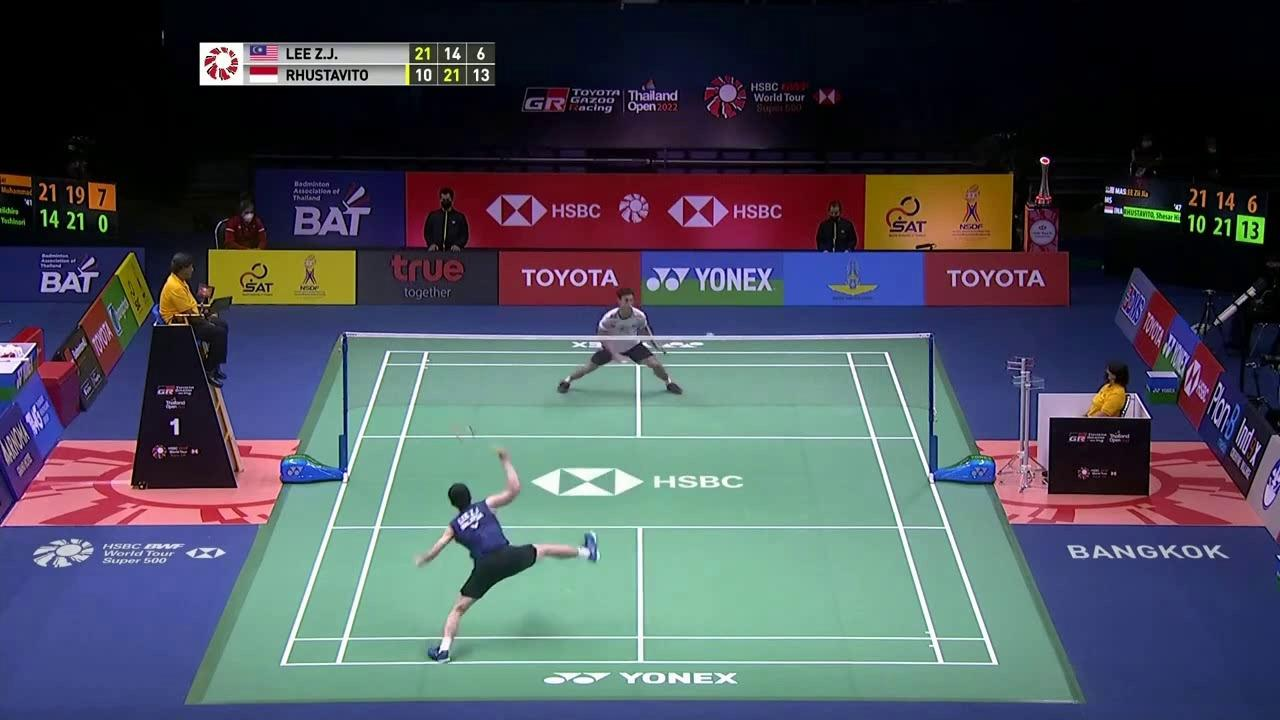racket: (451, 421, 507, 459), (615, 350, 669, 368)
shuttle: (705, 331, 715, 341)
